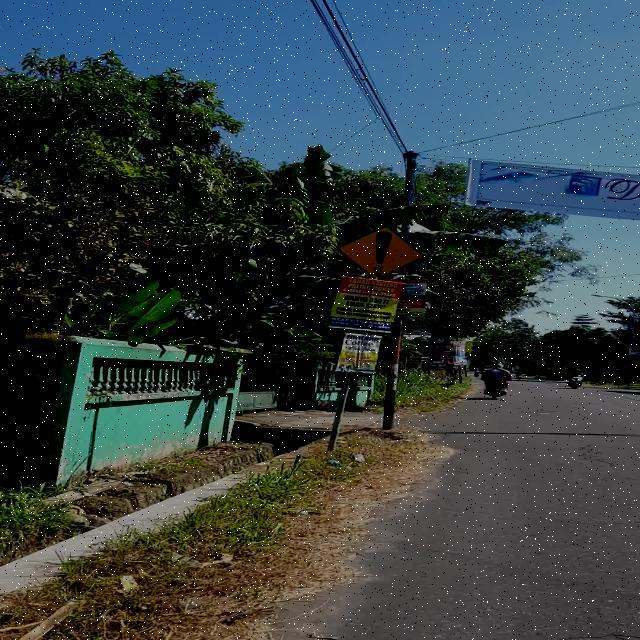Hati-Hati: (336, 225, 424, 279)
